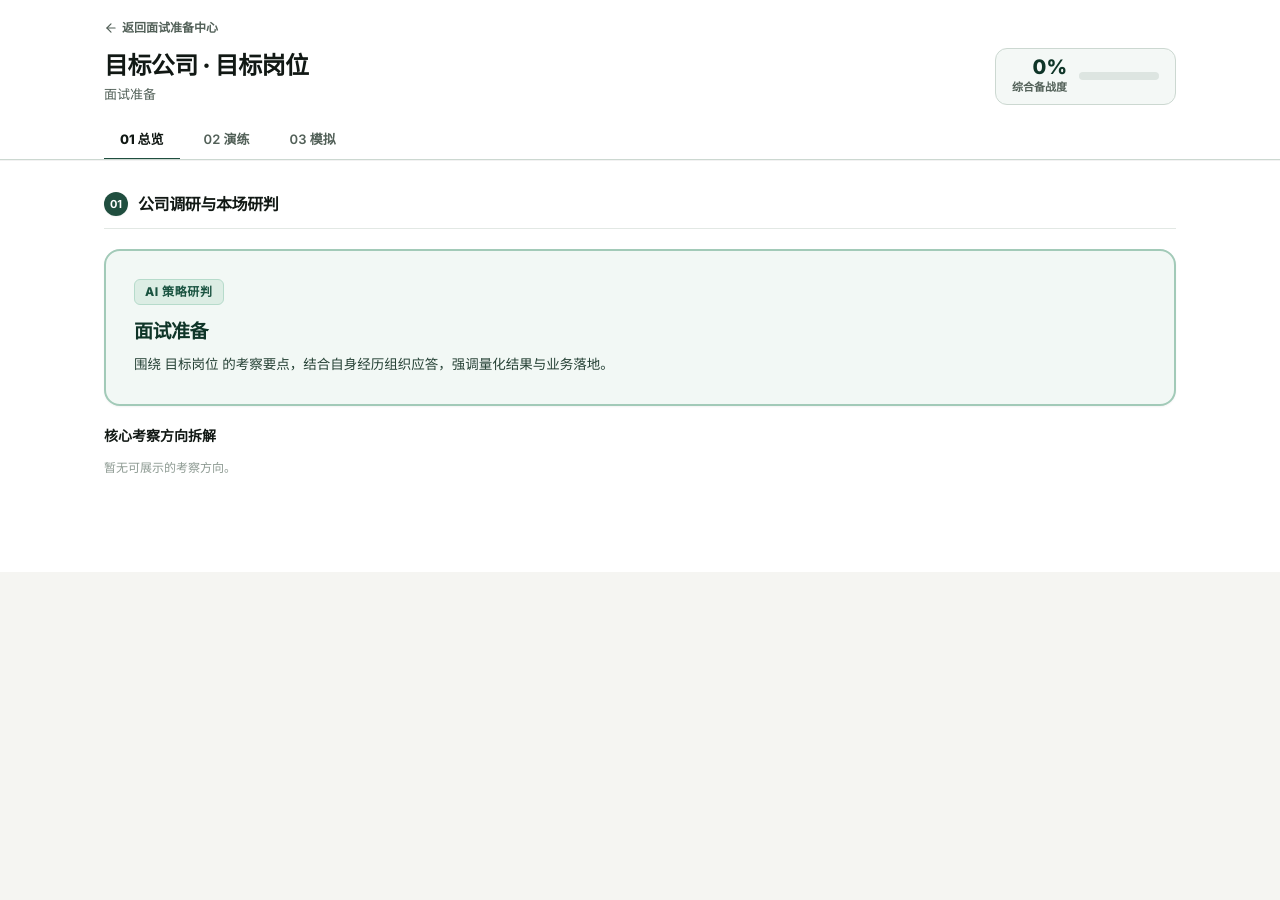
Test: T-P7-1 工作区公司调研双形渲染 › 两者皆缺（company_research 为 null）→ 显式降级态，不渲染空壳 InfoRow（T-P7-3 行5）
Click the button "01 总览". click: [142, 140]
box: [104,120,180,160]
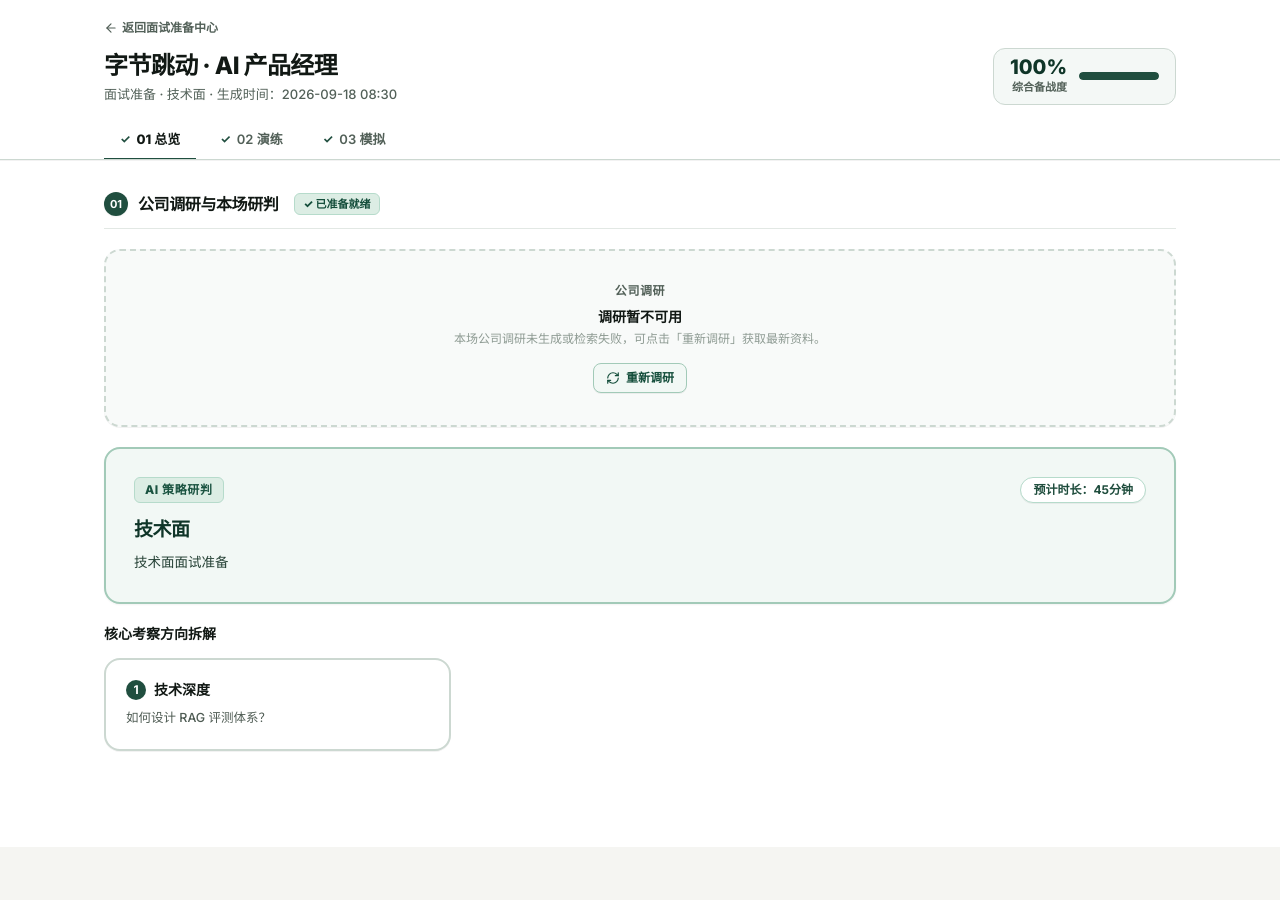
Expected: the heading "公司调研与本场研判" is shown, [138,192,278,216]
Expected: the text "调研暂不可用" is shown, [598,308,682,325]
Expected: the button "重新调研" is shown, [593,363,687,393]
